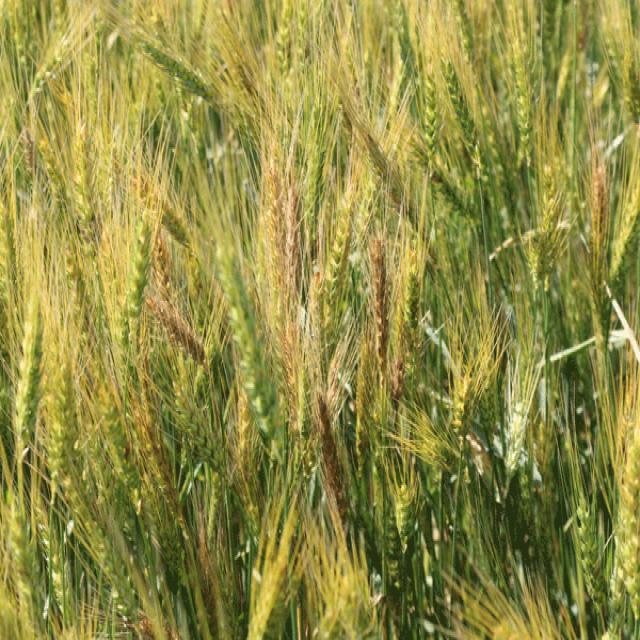Wheathead: (444, 46, 622, 492), (17, 13, 162, 554), (245, 107, 415, 416)
